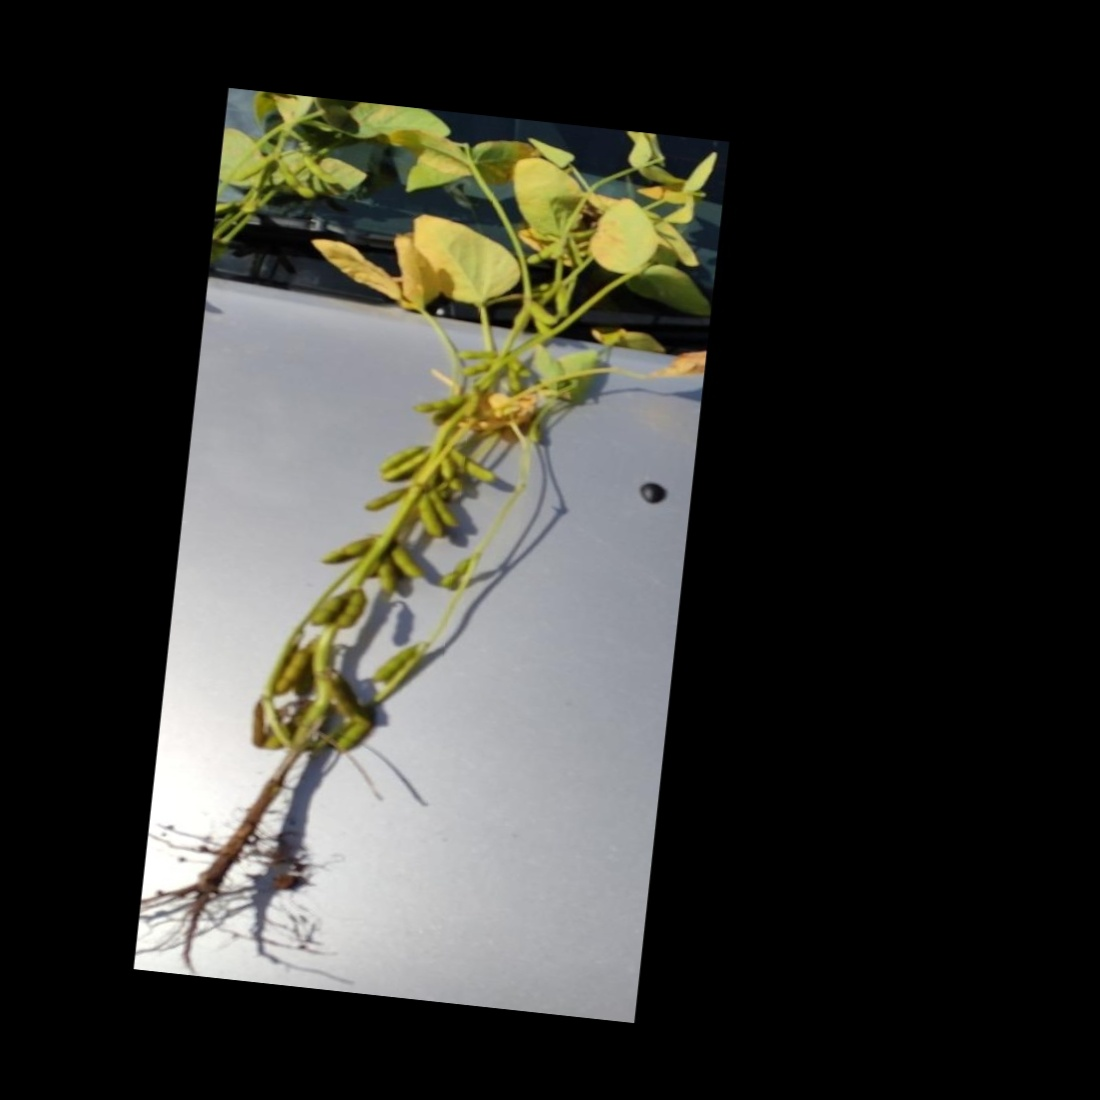pod: (370, 633, 426, 694), (373, 439, 436, 482), (380, 441, 433, 490), (446, 446, 509, 486), (405, 492, 453, 542), (330, 582, 368, 643), (403, 384, 464, 418), (385, 539, 429, 582), (307, 586, 347, 630), (515, 297, 563, 330), (439, 555, 469, 590)
soy: (145, 142, 705, 995)
